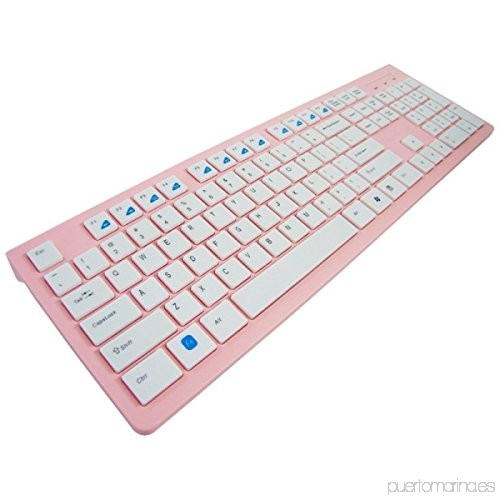Teclado: (7, 63, 498, 432)
